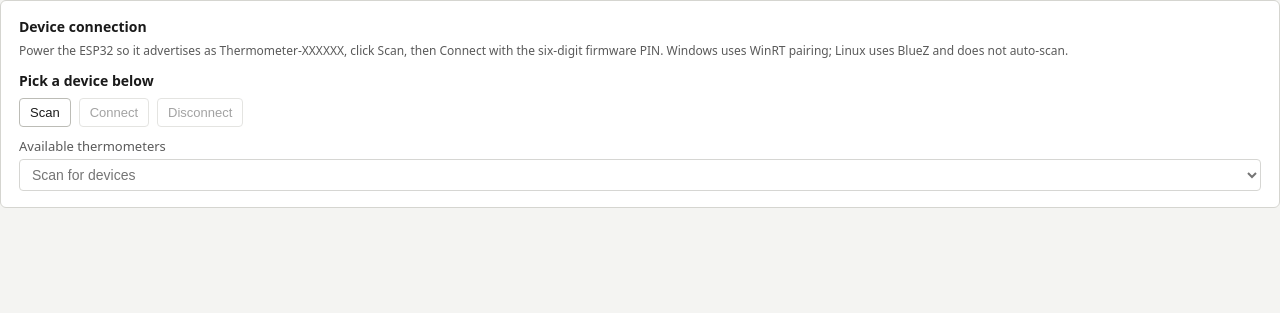
scan populates a dropdown and Connect uses the selected address without a saved PIN
The image size is (1280, 313).
Click the button "Scan".
click(45, 112)  # box [19,98,71,127]
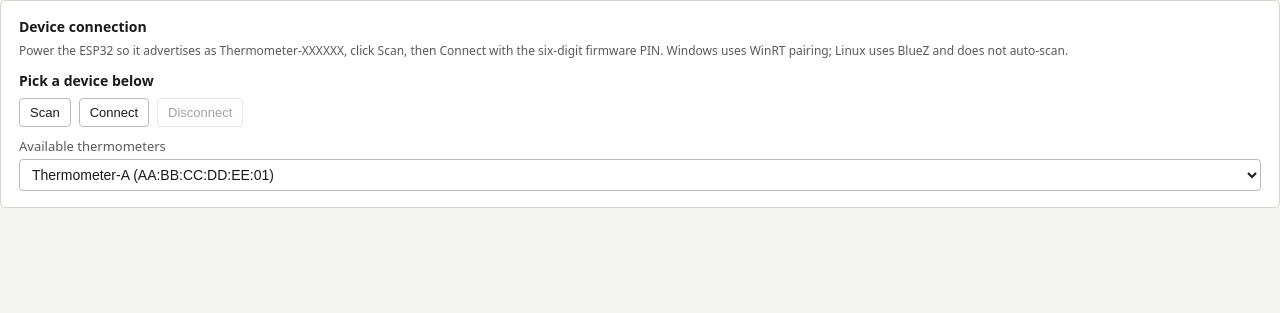
Select "Thermometer-B (AA:BB:CC:DD:EE:02)" in the dropdown labelled "Available thermometers" at (640, 175), box [19,159,1261,191]
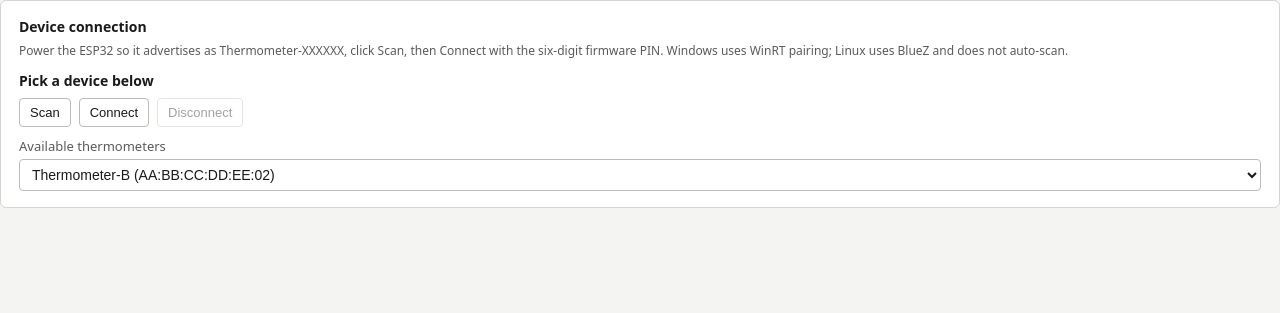
Click the button "Connect".
click(114, 112)  # box [79,98,149,127]
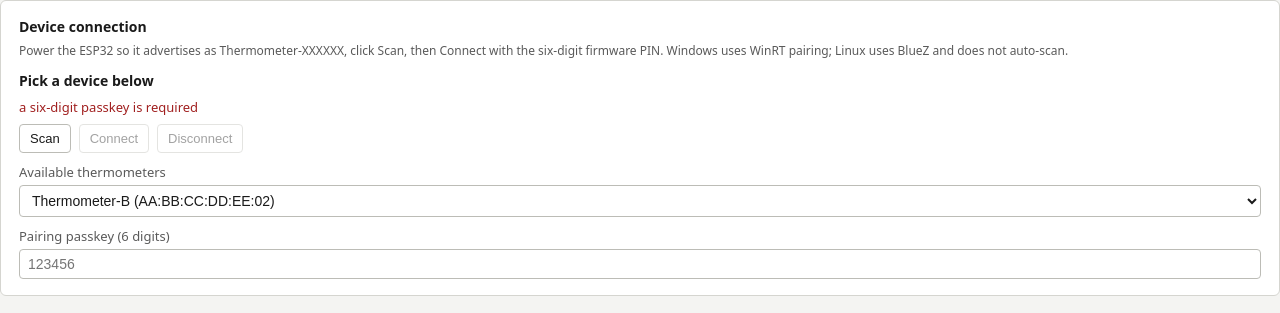
Result: the text "Pairing passkey" is shown at [19,227,170,245]
